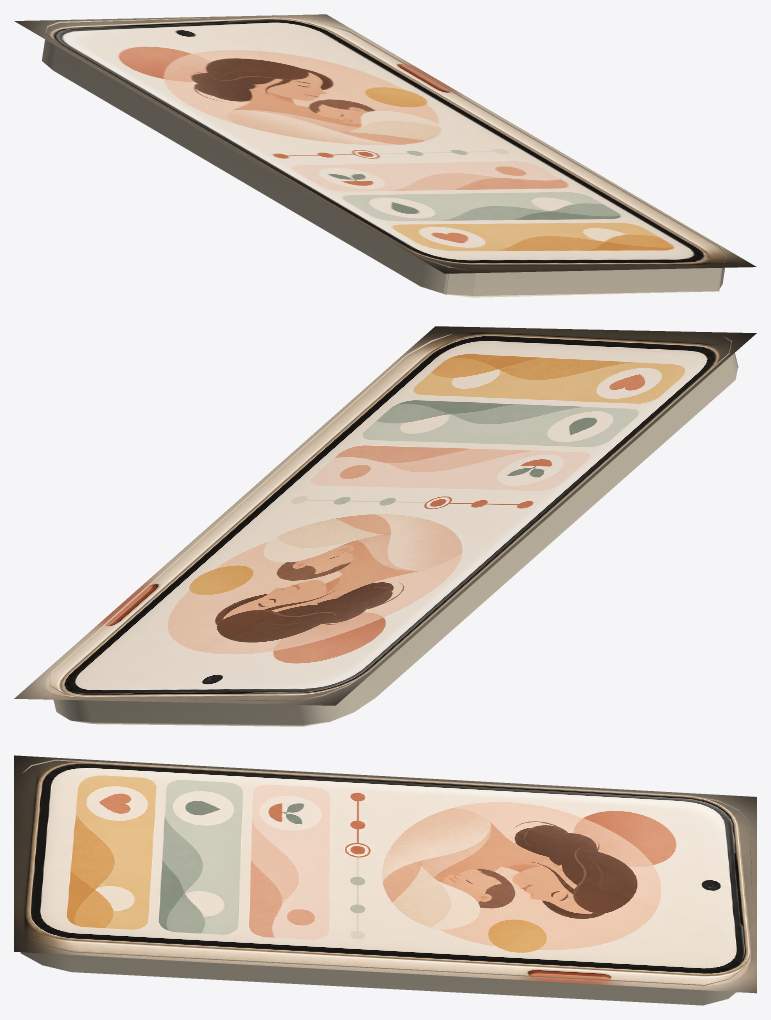
The model's file is vintage-relief-phone.glb.
3 renders of one model, top to bottom at view 1: azimuth 30°, elevation 25°; view 2: azimuth 150°, elevation 25°; view 3: azimuth 270°, elevation 25°, orthographic. The views are drawn at different scales.
Parts seen in each view (by area): view 1: Mothers care phone · exact approved vintage artwork, Mothers care phone · outline-matched solid device body; view 2: Mothers care phone · exact approved vintage artwork, Mothers care phone · outline-matched solid device body; view 3: Mothers care phone · exact approved vintage artwork, Mothers care phone · outline-matched solid device body.
Part boxes in pixels (x1,y1,x2,y2): Mothers care phone · exact approved vintage artwork: [14, 14, 756, 273]; Mothers care phone · outline-matched solid device body: [42, 17, 726, 297]; Mothers care phone · exact approved vintage artwork: [14, 326, 756, 705]; Mothers care phone · outline-matched solid device body: [50, 334, 738, 726]; Mothers care phone · exact approved vintage artwork: [14, 755, 756, 993]; Mothers care phone · outline-matched solid device body: [20, 759, 753, 1005].
Size of the model in its own units: 2.53 by 1.06 by 5.69.
2 materials, 1 textured.
